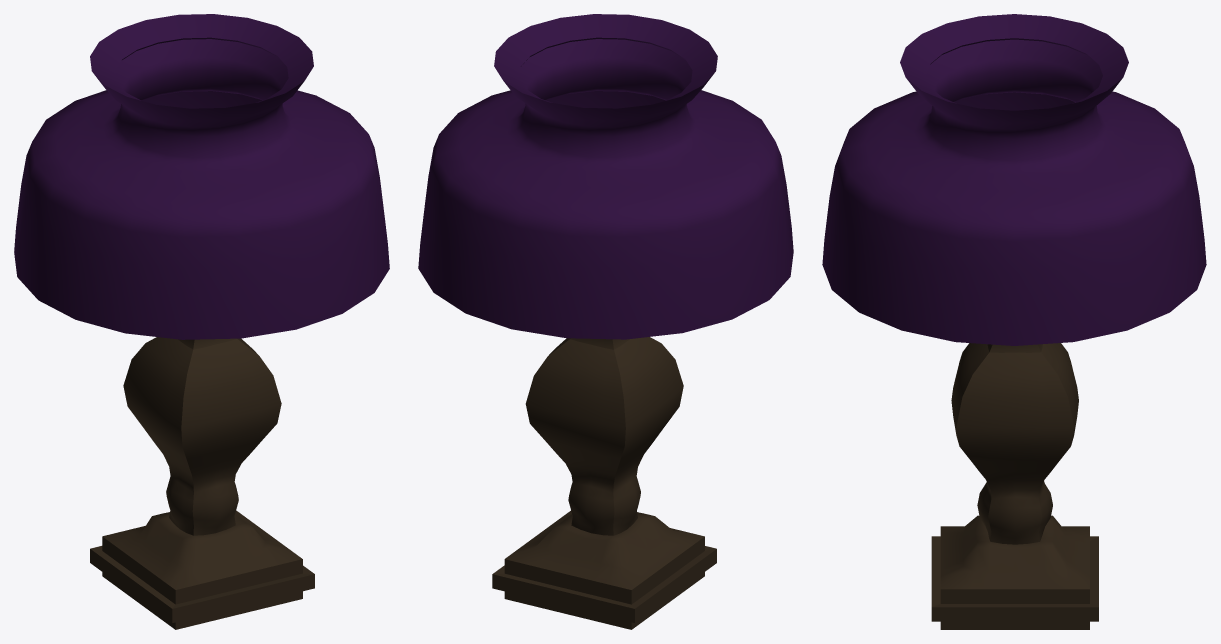
File: SmallLamp.fbx
The picture shows the model from 3 angles, left to right: view 1: azimuth 30°, elevation 25°; view 2: azimuth 150°, elevation 25°; view 3: azimuth 270°, elevation 25°; orthographic projection.
Parts seen in each view (by area): view 1: polySurface3; view 2: polySurface3; view 3: polySurface3.
Part boxes in pixels (box(x1,y1,x2,y2)): polySurface3: box(14, 14, 389, 629); polySurface3: box(418, 14, 793, 629); polySurface3: box(822, 14, 1206, 629).
Bounding box in the file's own units: 4.07 × 6.26 × 4.07.
